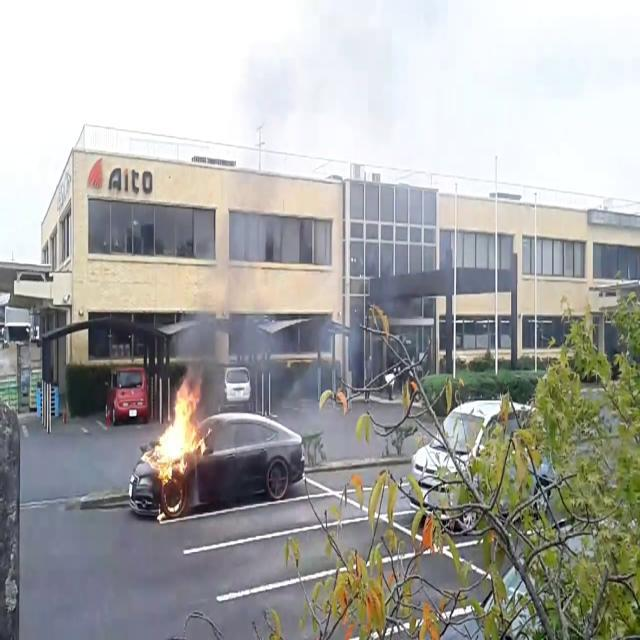Fire: (142, 374, 208, 486)
